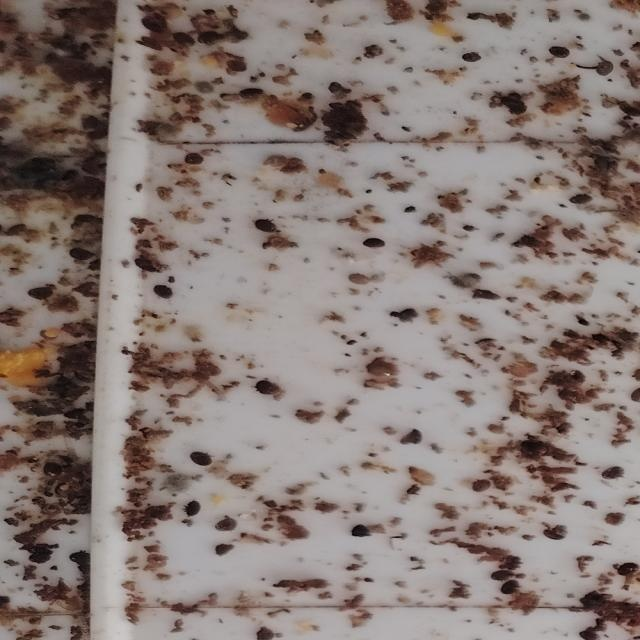varroa: (254, 379, 289, 401), (252, 217, 286, 236), (540, 525, 571, 545), (24, 286, 60, 302), (401, 427, 428, 448), (141, 15, 168, 34), (195, 32, 229, 47), (358, 237, 393, 251), (134, 258, 162, 275), (187, 453, 215, 470), (394, 307, 423, 323), (215, 518, 242, 535), (600, 466, 626, 483), (550, 45, 577, 61), (40, 464, 67, 480), (350, 523, 375, 540), (68, 247, 98, 261), (155, 285, 181, 301), (487, 569, 519, 582), (68, 552, 100, 565), (616, 560, 639, 578), (213, 542, 240, 557), (458, 50, 486, 64), (228, 59, 251, 75), (593, 62, 617, 77), (185, 501, 205, 519), (251, 627, 281, 639), (183, 153, 209, 166), (239, 87, 264, 100), (568, 194, 592, 207), (472, 479, 492, 494), (174, 33, 195, 47), (501, 583, 519, 599)
